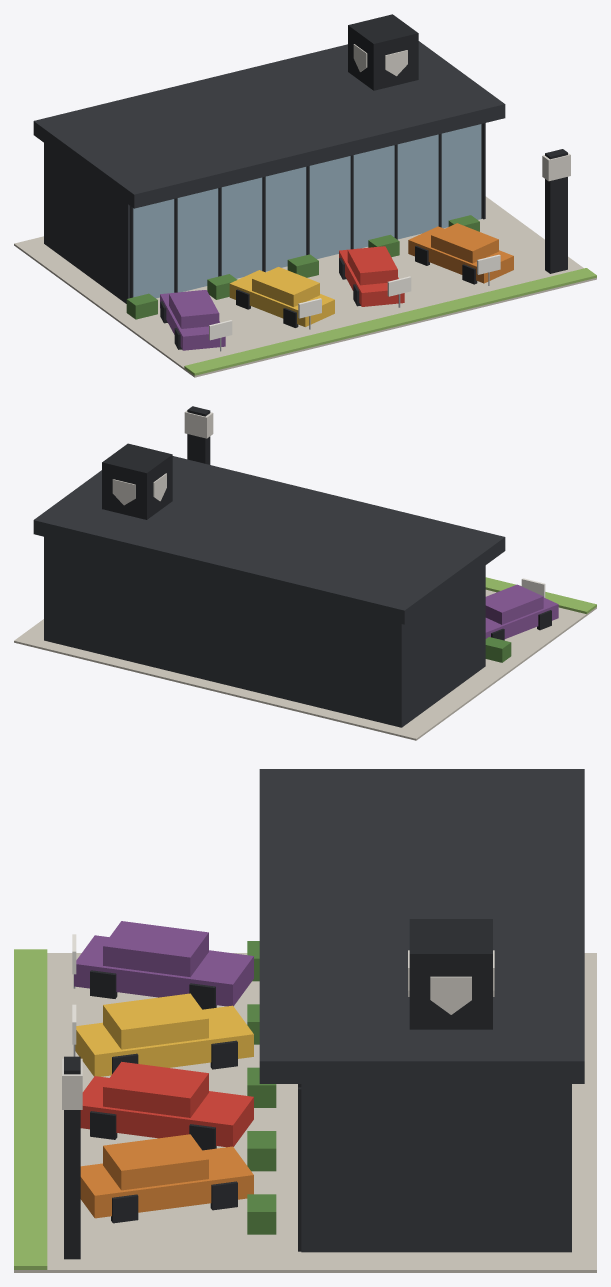
Rendered from Dukkan_cadde_autohaus_Hafif.fbx.
The picture shows the model from 3 angles, top to bottom: view 1: azimuth 30°, elevation 25°; view 2: azimuth 150°, elevation 25°; view 3: azimuth 270°, elevation 25°; orthographic projection. The views are drawn at different scales.
Parts seen in each view (by area): view 1: Dukkan_cadde_autohaus_Hafif; view 2: Dukkan_cadde_autohaus_Hafif; view 3: Dukkan_cadde_autohaus_Hafif.
Boxes of the visible parts, x1,y1,x2,y2 form: Dukkan_cadde_autohaus_Hafif: (14,14,596,377); Dukkan_cadde_autohaus_Hafif: (14,406,596,740); Dukkan_cadde_autohaus_Hafif: (14,769,596,1272).
Bounding box in the file's own units: 18 × 7.28 × 14.
